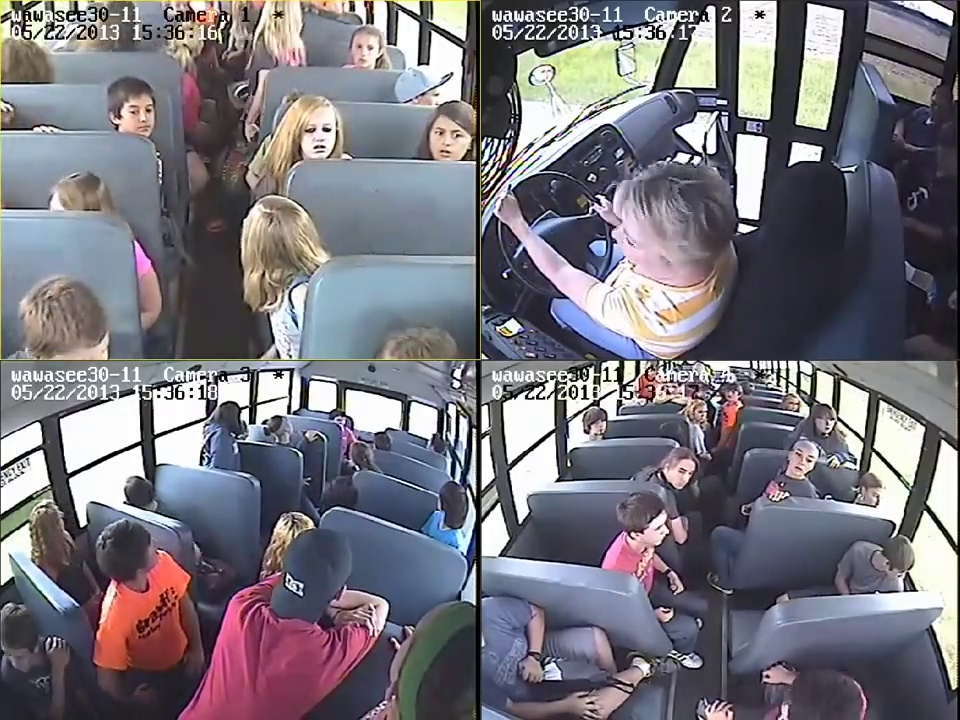face: (609, 207, 654, 271), (299, 106, 340, 159), (427, 121, 469, 158), (118, 93, 153, 133), (636, 510, 670, 548), (669, 454, 695, 492), (352, 35, 380, 65), (789, 446, 814, 472), (866, 483, 884, 509), (816, 410, 835, 432), (591, 418, 607, 438), (691, 405, 707, 422), (724, 389, 737, 402), (787, 397, 800, 410), (701, 389, 712, 399)
